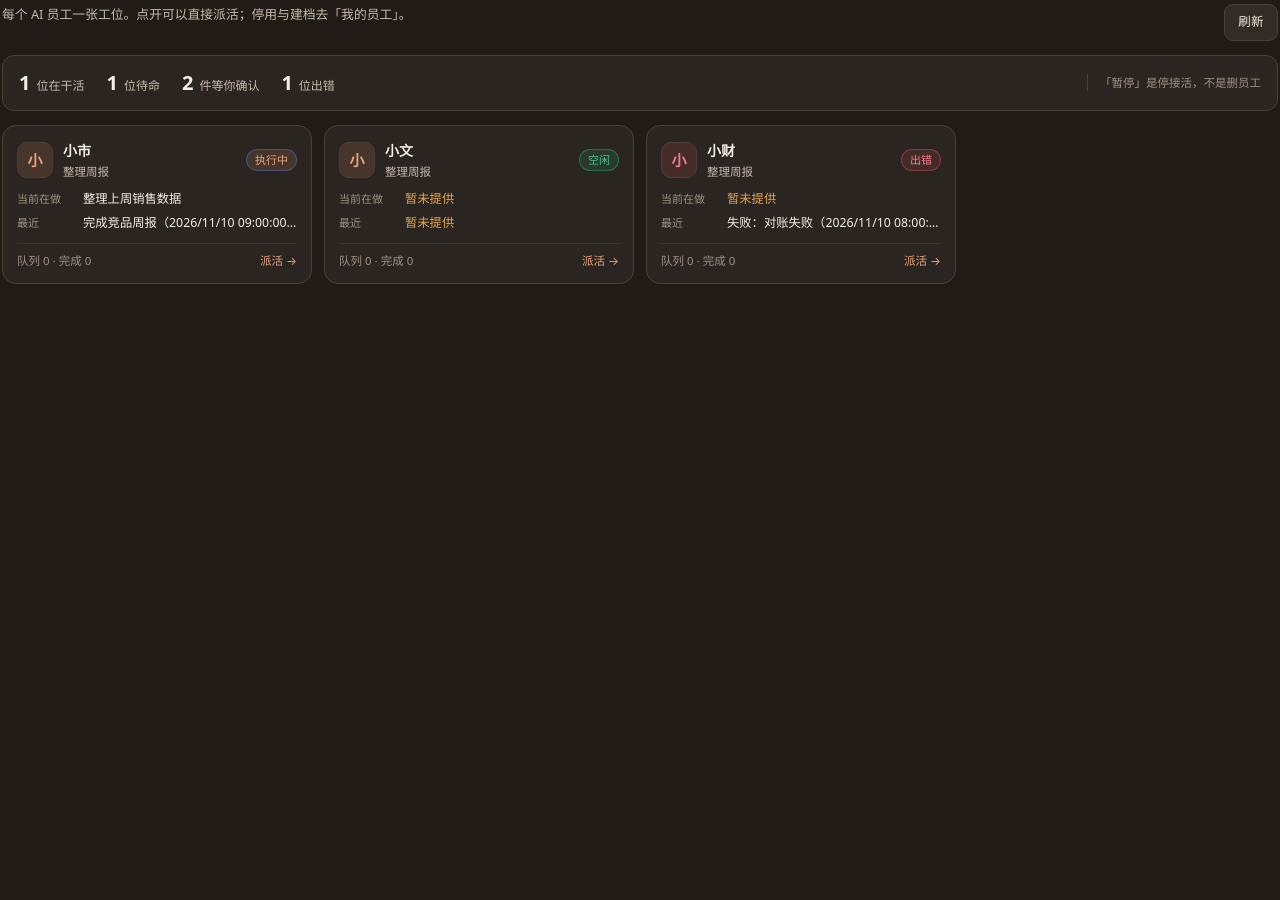
Test: 办公室工位墙 › 点工位打开抽屉，派活走指名接口
Later steps or results of the test are not shown.
Expected: the text "小文" is shown, [385, 141, 413, 160]
Click the button with aria-label "打开 小文 的派活面板": (357,160) [324, 125, 634, 284]
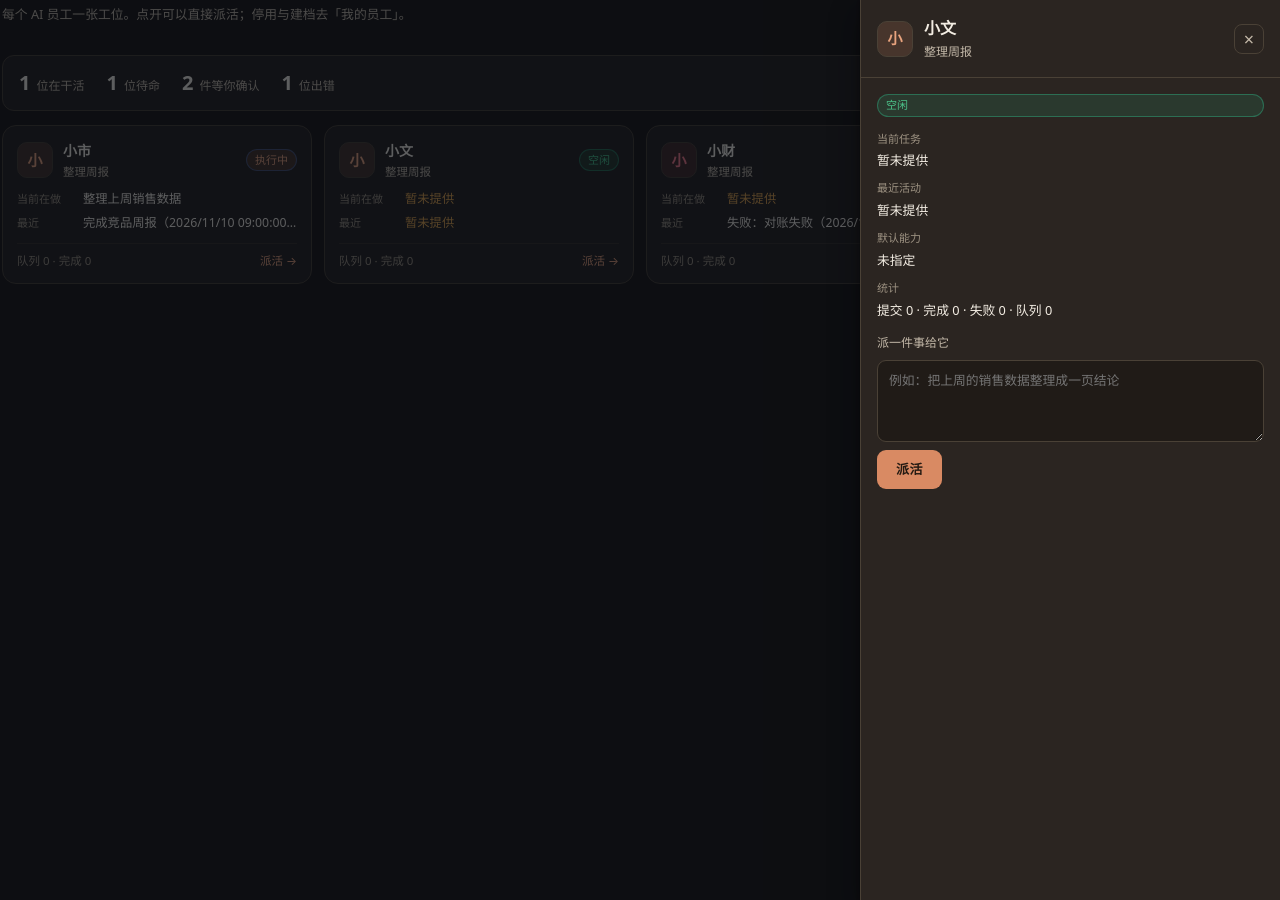
Result: the dialog shows "小文" at [924, 17, 956, 39]
